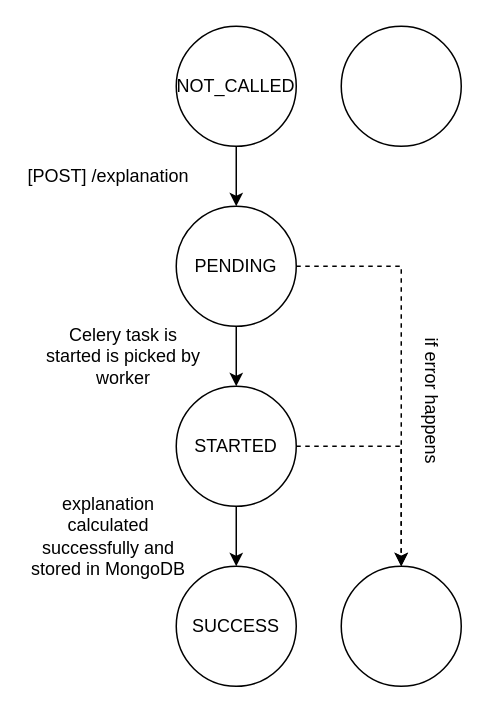
Image size: 488x713. Some labels were removed from this diagram. Each missing label, with the centre of its shape:
"FAILED" goes at (400,625).
"NOT_SUPPORTED" goes at (400,85).
